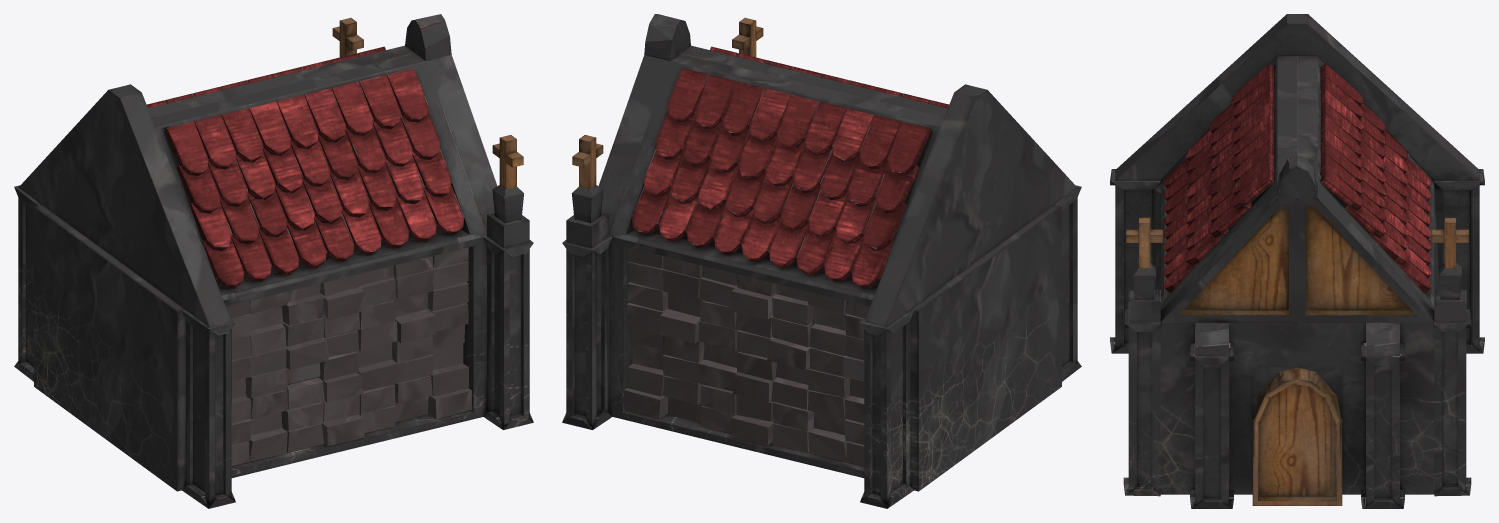
File: mausoleum.fbx
3 renders of one model, left to right at view 1: azimuth 30°, elevation 25°; view 2: azimuth 150°, elevation 25°; view 3: azimuth 270°, elevation 25°, orthographic. The views are drawn at different scales.
Parts seen in each view (by area): view 1: roof; view 2: roof; view 3: roof.
Part boxes in pixels (x1=…): roof: x1=14, y1=14, x2=533, y2=508; roof: x1=562, y1=14, x2=1081, y2=508; roof: x1=1110, y1=14, x2=1484, y2=508.
Size of the model in its own units: 856 by 764 by 791.
Materials: 1 (1 with a texture image).
